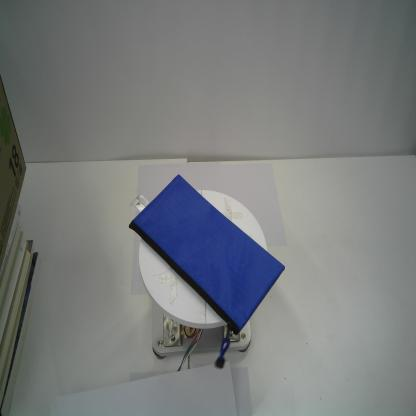Stationery: (126, 172, 286, 371)
